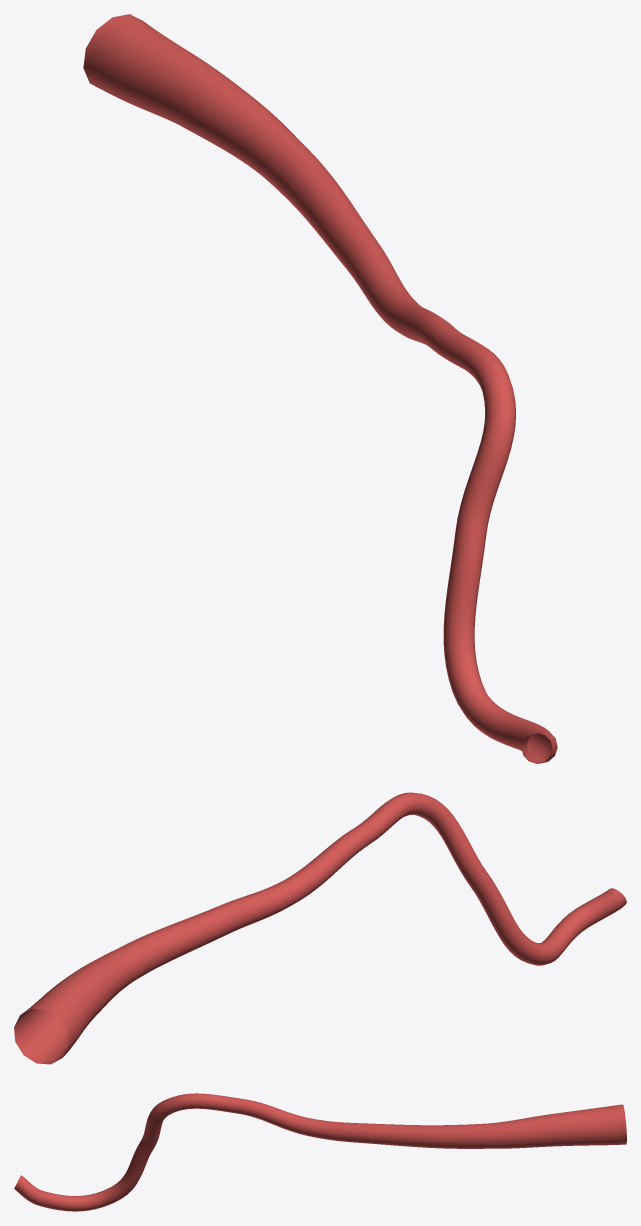
3 views of the same model, one above another, from view 1: azimuth 30°, elevation 25°; view 2: azimuth 150°, elevation 25°; view 3: azimuth 270°, elevation 25° (orthographic). The views are drawn at different scales.
Parts seen in each view (by area): view 1: 左侧颈内动脉; view 2: 左侧颈内动脉; view 3: 左侧颈内动脉.
Part boxes in pixels (x1,y1,x2,y2): 左侧颈内动脉: [83, 14, 557, 763]; 左侧颈内动脉: [14, 792, 626, 1064]; 左侧颈内动脉: [14, 1093, 626, 1211].
Size of the model in its own units: 0.0409 by 0.045 by 0.1743.
